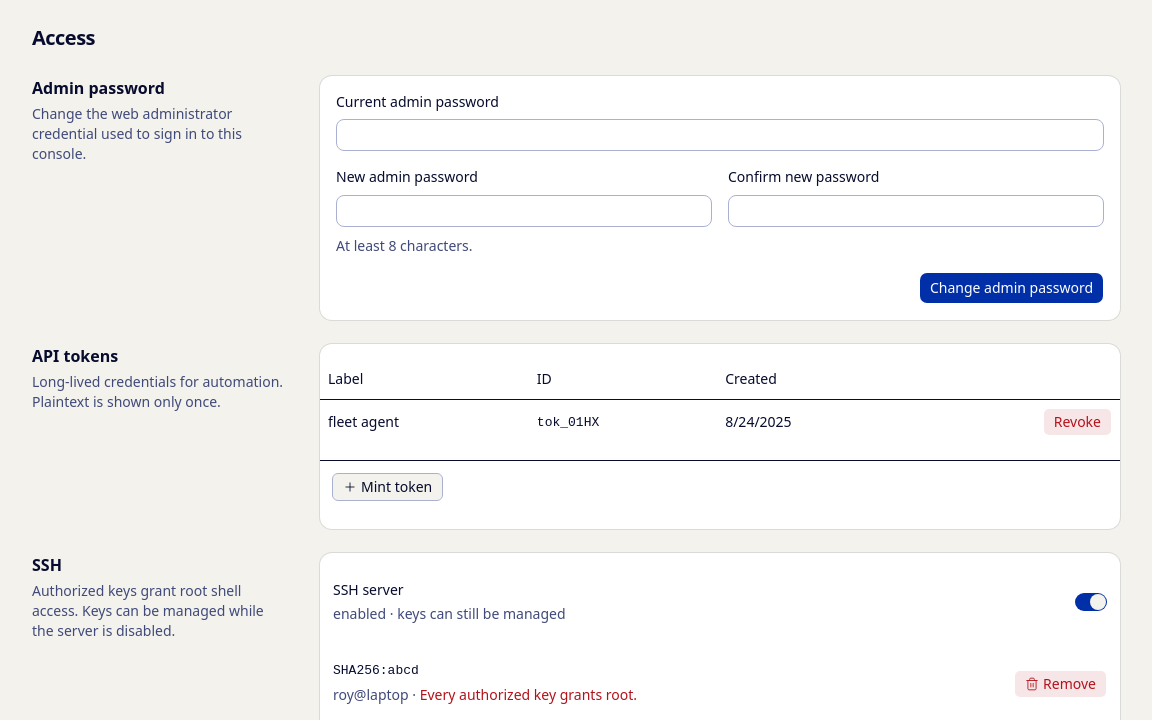
Test: the access page › reports the SSH server switch, which used to change nothing visible
Click the switch named "SSH server": [1091, 602] box [1075, 593, 1107, 611]
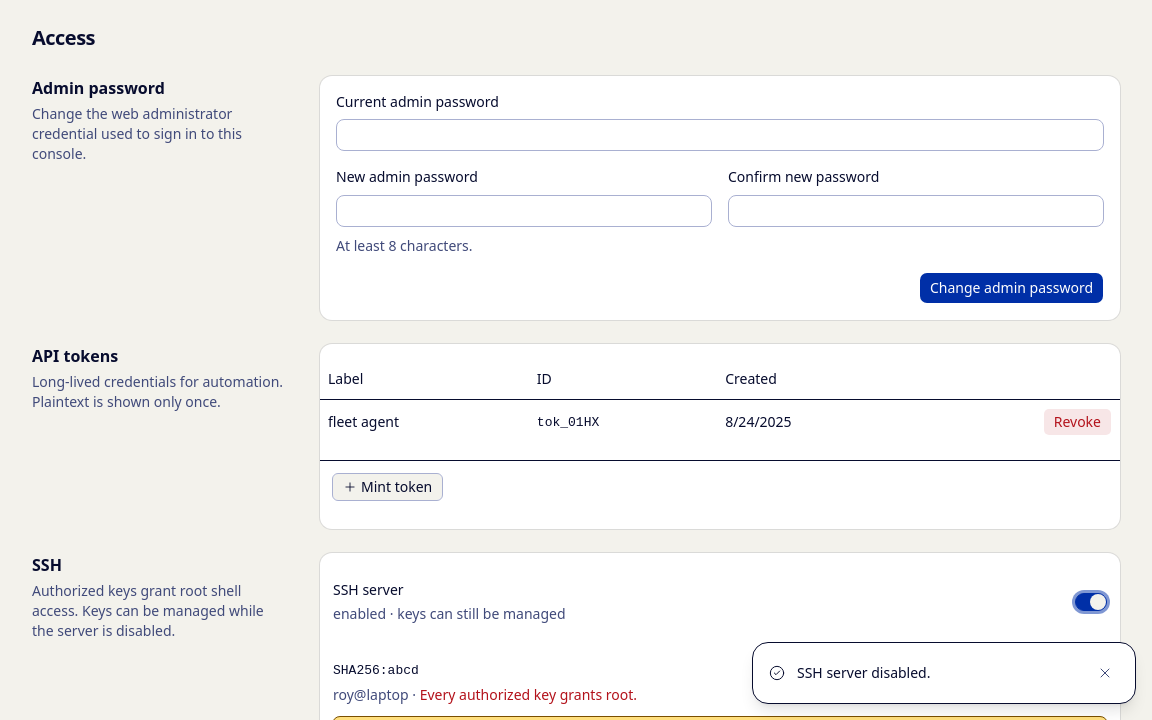
Result: the heading "SSH server disabled." is shown at [797, 663, 930, 682]
